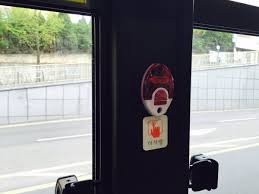bell: (140, 63, 175, 117)
